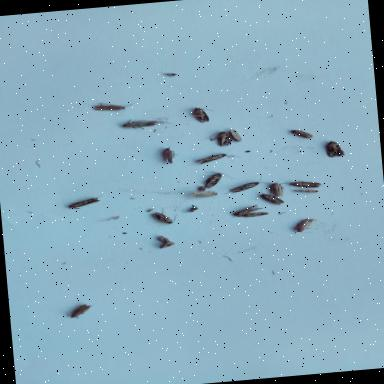pbw: (42, 299, 99, 326), (216, 174, 272, 199), (184, 147, 243, 169), (113, 113, 174, 134), (174, 101, 222, 127), (56, 192, 111, 214), (268, 176, 332, 194), (199, 164, 236, 194), (90, 98, 142, 119), (248, 185, 288, 212), (138, 230, 182, 254), (140, 207, 182, 230), (152, 142, 184, 170), (255, 176, 289, 202), (287, 215, 323, 238), (317, 137, 349, 161), (186, 187, 222, 201), (228, 203, 264, 217), (288, 125, 316, 141), (238, 208, 271, 220), (225, 126, 246, 144)
